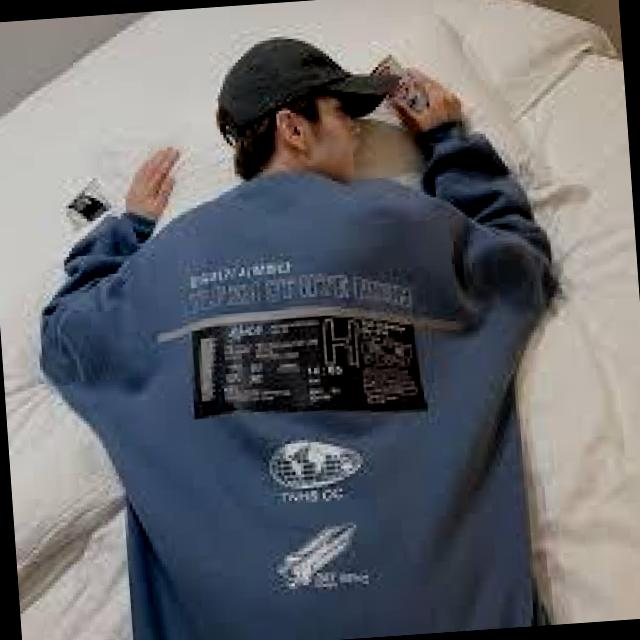sweater: (25, 114, 583, 640)
